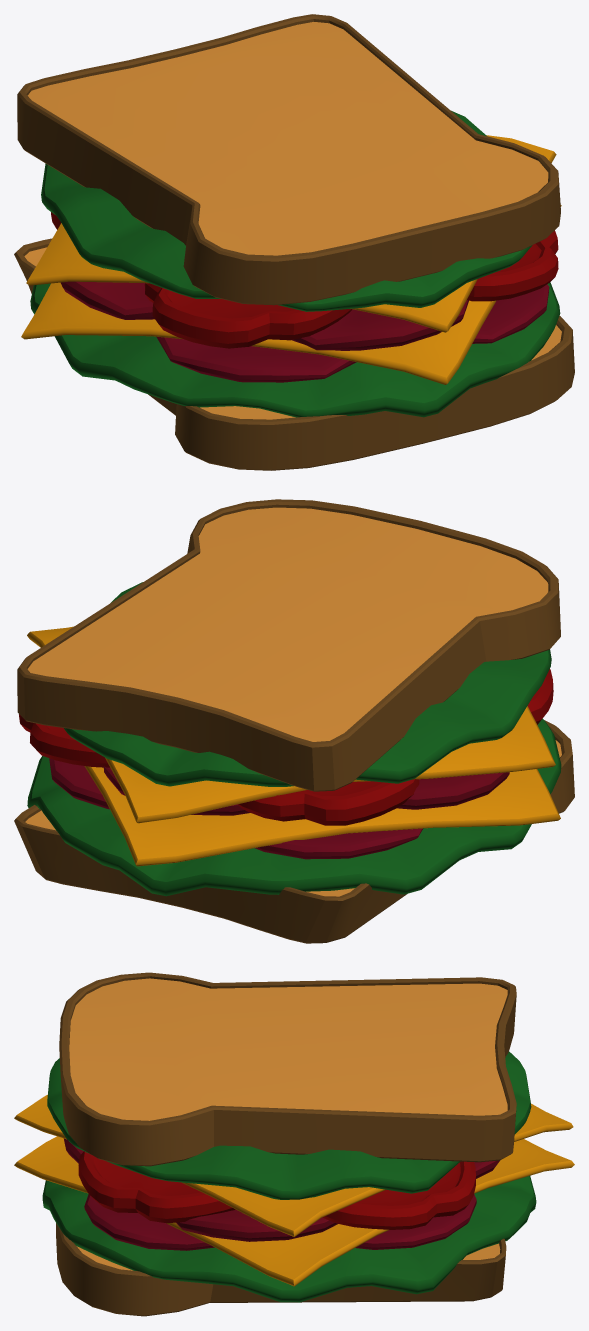
File: Sandwich_1.FBX
3 views of the same model, one above another, from view 1: azimuth 30°, elevation 25°; view 2: azimuth 150°, elevation 25°; view 3: azimuth 270°, elevation 25° (orthographic). The views are drawn at different scales.
Visible parts, largest first — view 1: Sandwich_1; view 2: Sandwich_1; view 3: Sandwich_1.
Part boxes in pixels (left/top/right/bottom): Sandwich_1: left=14, top=14, right=574, bottom=470; Sandwich_1: left=14, top=499, right=574, bottom=943; Sandwich_1: left=14, top=972, right=574, bottom=1316.
Size of the model in its own units: 1201 by 1203 by 454.
